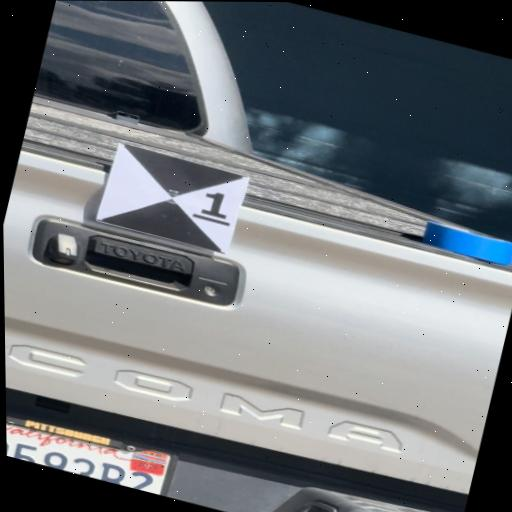target1: (100, 142, 244, 254)
